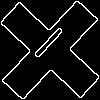I: (25, 25, 66, 68)
